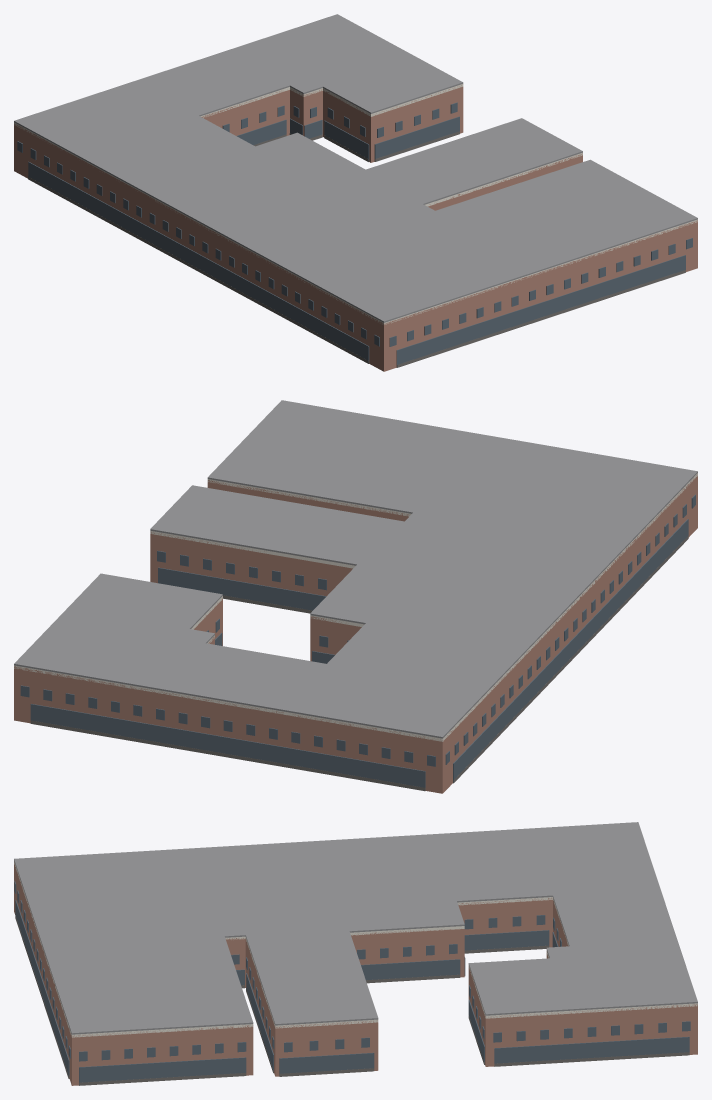
The model's file is s23_gis_247838_820787.glb.
3 views of the same model, one above another, from view 1: azimuth 30°, elevation 25°; view 2: azimuth 150°, elevation 25°; view 3: azimuth 270°, elevation 25° (orthographic). The views are drawn at different scales.
Parts seen in each view (by area): view 1: roofcap, mass, store_0, store_1, cornice, store_15, bulk_0, bulk_1, store_14, store_11; view 2: roofcap, mass, store_17, cornice, store_0, store_7, bulk_17, bulk_0; view 3: roofcap, mass, store_16, cornice, store_2, store_8, store_6, store_10, store_1, bulk_16, bulk_2, store_5.
Boxes of the visible parts, x1=… form: roofcap: x1=14, y1=14, x2=697, y2=322; mass: x1=14, y1=85, x2=697, y2=371; store_0: x1=28, y1=161, x2=369, y2=362; store_1: x1=396, y1=255, x2=685, y2=365; cornice: x1=14, y1=84, x2=697, y2=324; store_15: x1=374, y1=116, x2=459, y2=160; bulk_0: x1=28, y1=176, x2=369, y2=363; bulk_1: x1=396, y1=270, x2=685, y2=367; store_14: x1=324, y1=120, x2=369, y2=160; store_11: x1=236, y1=119, x2=286, y2=145; roofcap: x1=14, y1=400, x2=697, y2=738; mass: x1=14, y1=475, x2=697, y2=793; store_17: x1=30, y1=704, x2=425, y2=787; cornice: x1=14, y1=473, x2=697, y2=741; store_0: x1=453, y1=519, x2=688, y2=781; store_7: x1=158, y1=567, x2=326, y2=610; bulk_17: x1=30, y1=720, x2=425, y2=791; bulk_0: x1=453, y1=536, x2=688, y2=783; roofcap: x1=14, y1=822, x2=697, y2=1034; mass: x1=14, y1=862, x2=697, y2=1085; store_16: x1=494, y1=1036, x2=689, y2=1063; cornice: x1=14, y1=861, x2=697, y2=1037; store_2: x1=79, y1=1057, x2=246, y2=1082; store_8: x1=361, y1=959, x2=460, y2=980; store_6: x1=279, y1=1052, x2=374, y2=1073; store_10: x1=464, y1=930, x2=549, y2=950; store_1: x1=15, y1=900, x2=69, y2=1075; bulk_16: x1=494, y1=1052, x2=689, y2=1066; bulk_2: x1=79, y1=1073, x2=246, y2=1085; store_5: x1=246, y1=973, x2=273, y2=1070.
Size of the model in its own units: 71.81 by 8.35 by 98.3.
